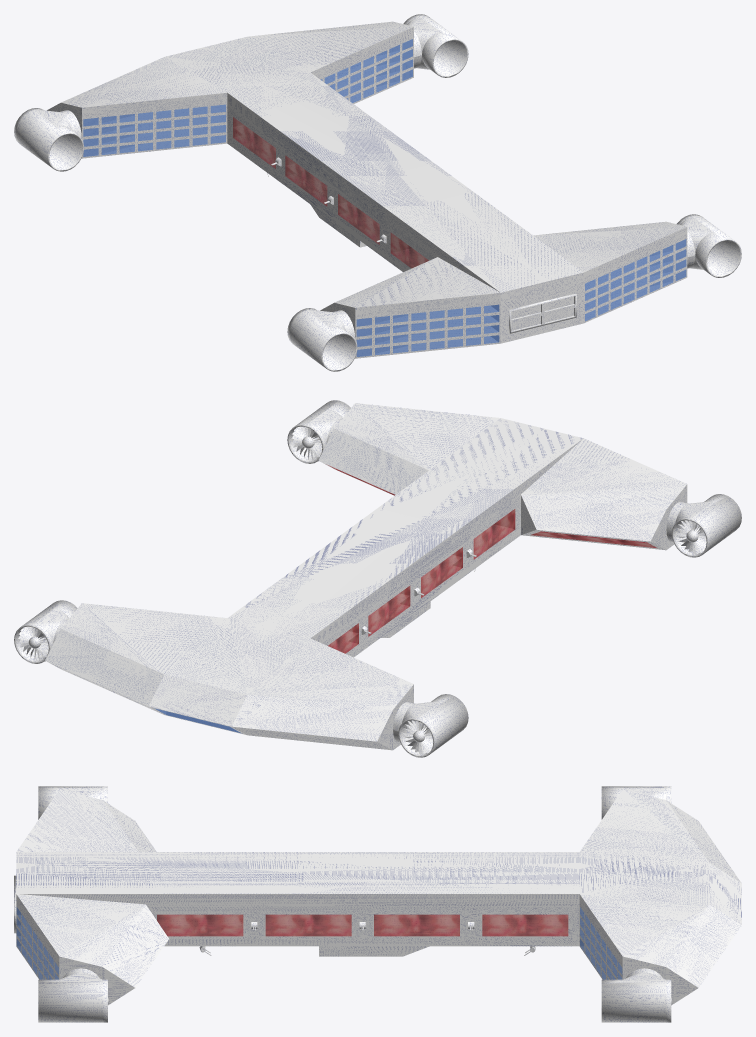
File: largeship2.dae
The picture shows the model from 3 angles, top to bottom: view 1: azimuth 30°, elevation 25°; view 2: azimuth 150°, elevation 25°; view 3: azimuth 270°, elevation 25°; orthographic projection. The views are drawn at different scales.
Parts seen in each view (by area): view 1: SketchUp (×10); view 2: SketchUp (×9); view 3: SketchUp (×5).
Part boxes in pixels (left/top/right/bottom): SketchUp (×10): left=14, top=14, right=741, bottom=371; SketchUp (×9): left=14, top=400, right=741, bottom=757; SketchUp (×5): left=16, top=786, right=741, bottom=1022.
Size of the model in its own units: 677 by 985 by 114.
4 materials, 1 textured.
